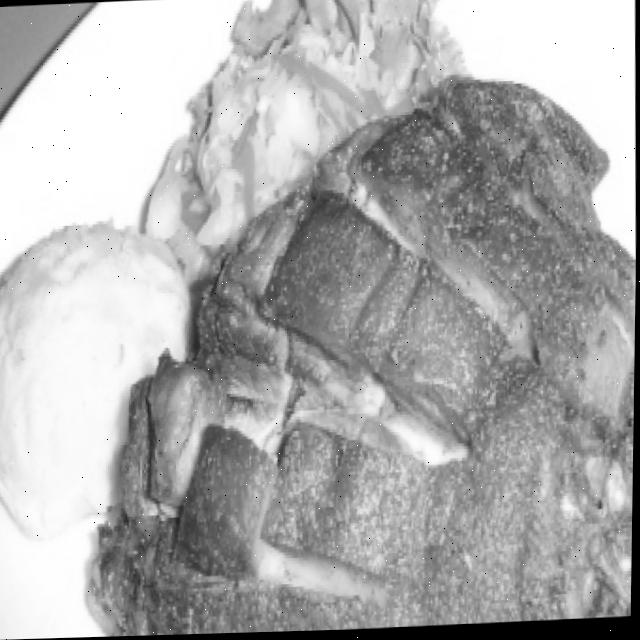猪肉菜式: (59, 10, 640, 638)
